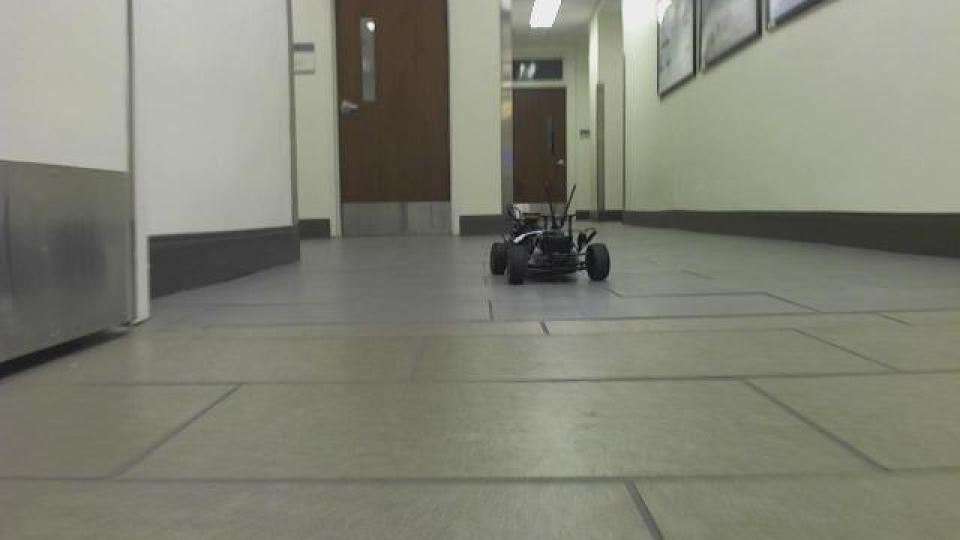car: (486, 180, 612, 288)
